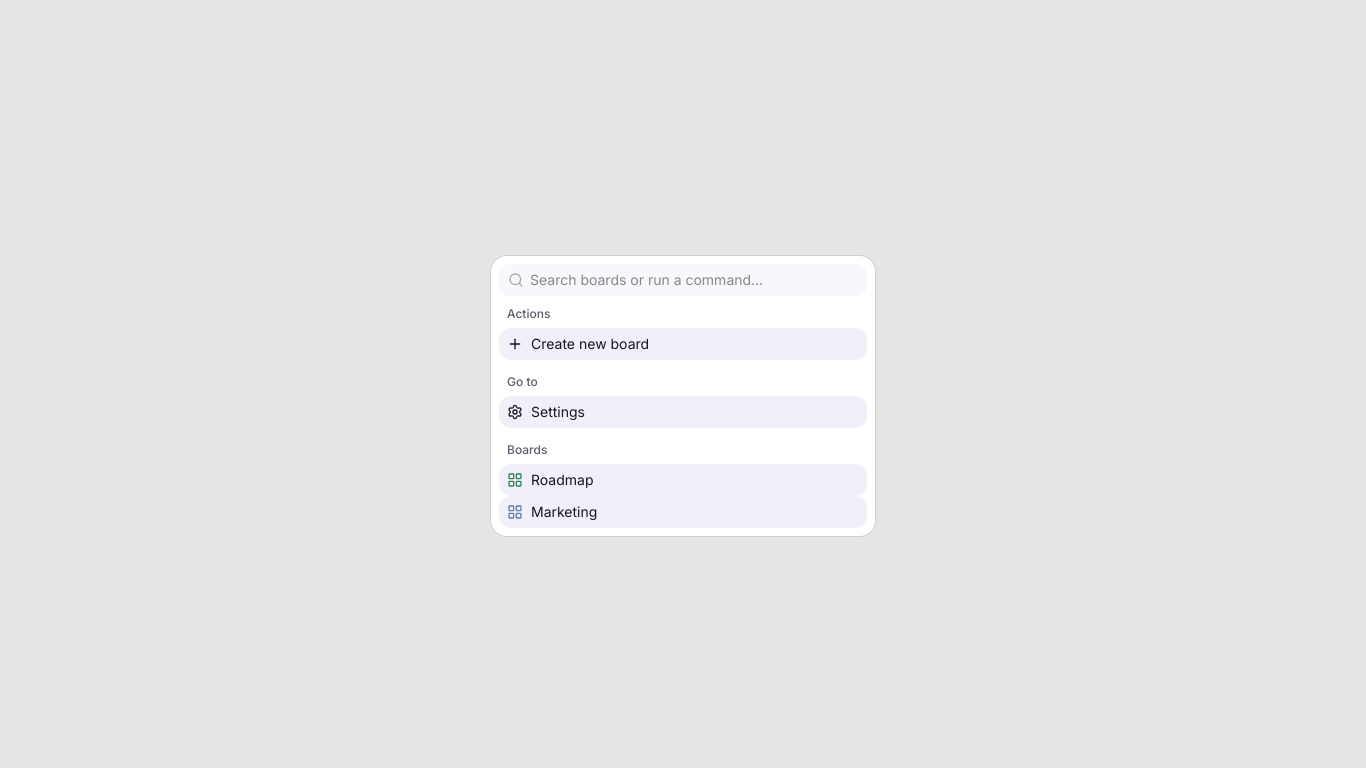
CommandMenu › narrows the list as you type, by label, and says when nothing matches
Type "road" into the dropdown with placeholder "Search boards or run a command…". click: (695, 280)
box: [524,270,866,290]
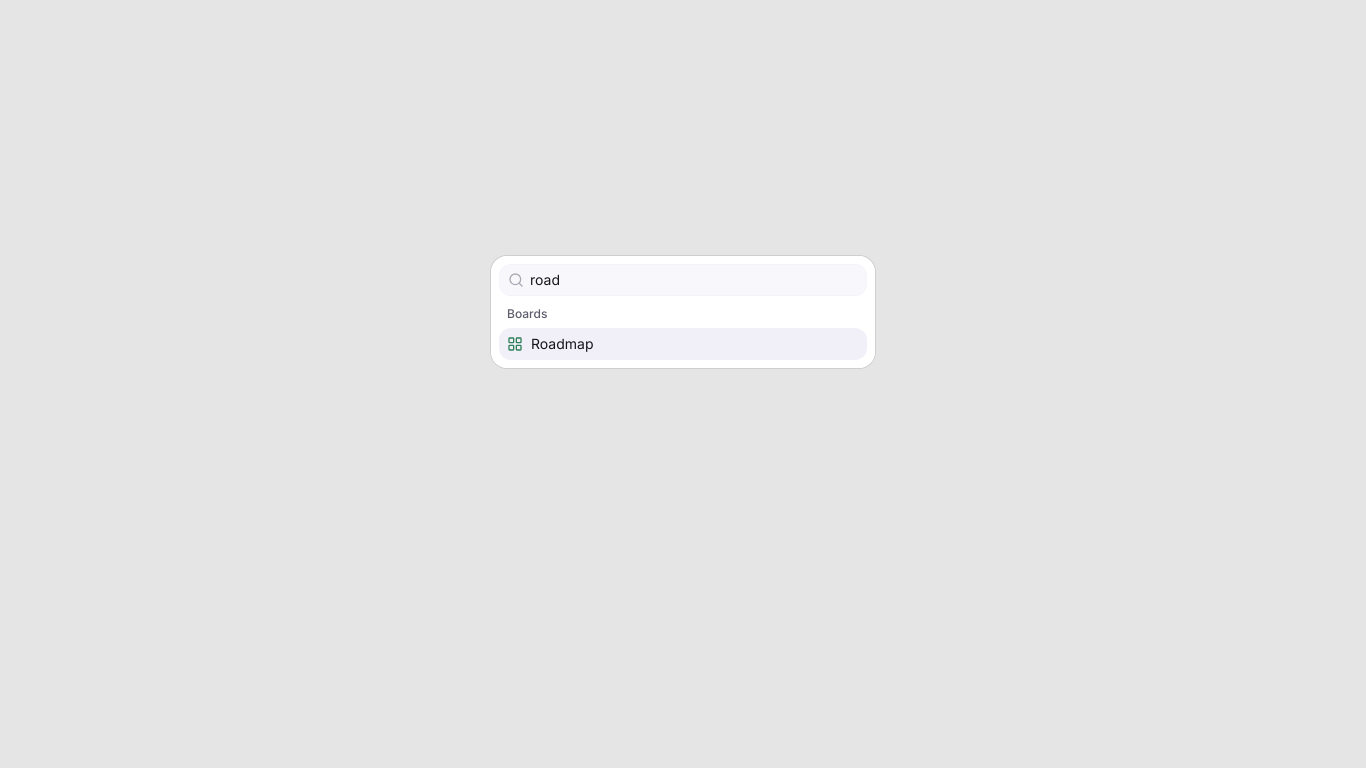
Expected: the option "Roadmap" is shown, [499,328,867,360]
Result: the option "Marketing" is gone
Result: the option "Settings" is gone
Replace the text in the dropdown with placeholder "Search boards or run a command…" with "zzz". click: (695, 280)
box: [524,270,866,290]
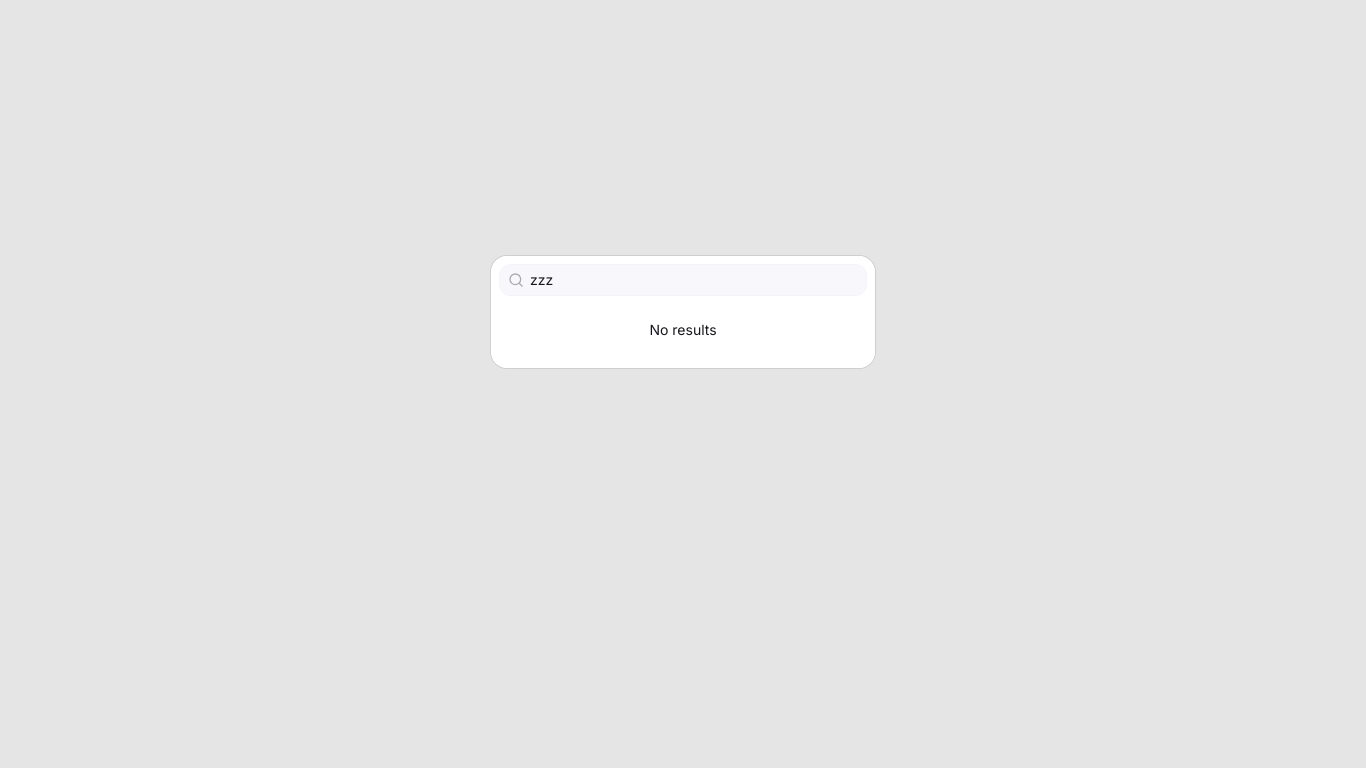
Result: the text "No results" is shown at [649,321,717,338]
